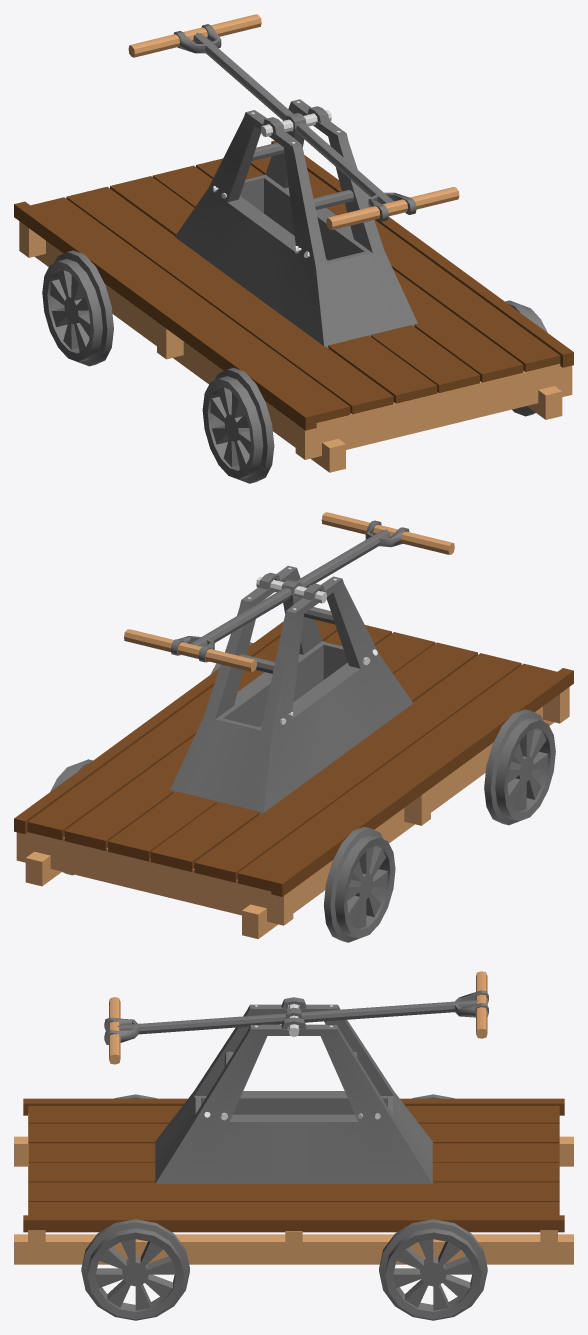
File: Animação Pulando_Carrinho.fbx
3 views of the same model, one above another, from view 1: azimuth 30°, elevation 25°; view 2: azimuth 150°, elevation 25°; view 3: azimuth 270°, elevation 25° (orthographic). The views are drawn at different scales.
Visible parts, largest first — view 1: Cube.001; view 2: Cube.001; view 3: Cube.001.
Boxes of the visible parts, <box> form: Cube.001: <box>14,14,573,483</box>; Cube.001: <box>14,512,573,942</box>; Cube.001: <box>14,971,573,1320</box>.
Bounding box in the file's own units: 197 × 173 × 339.
